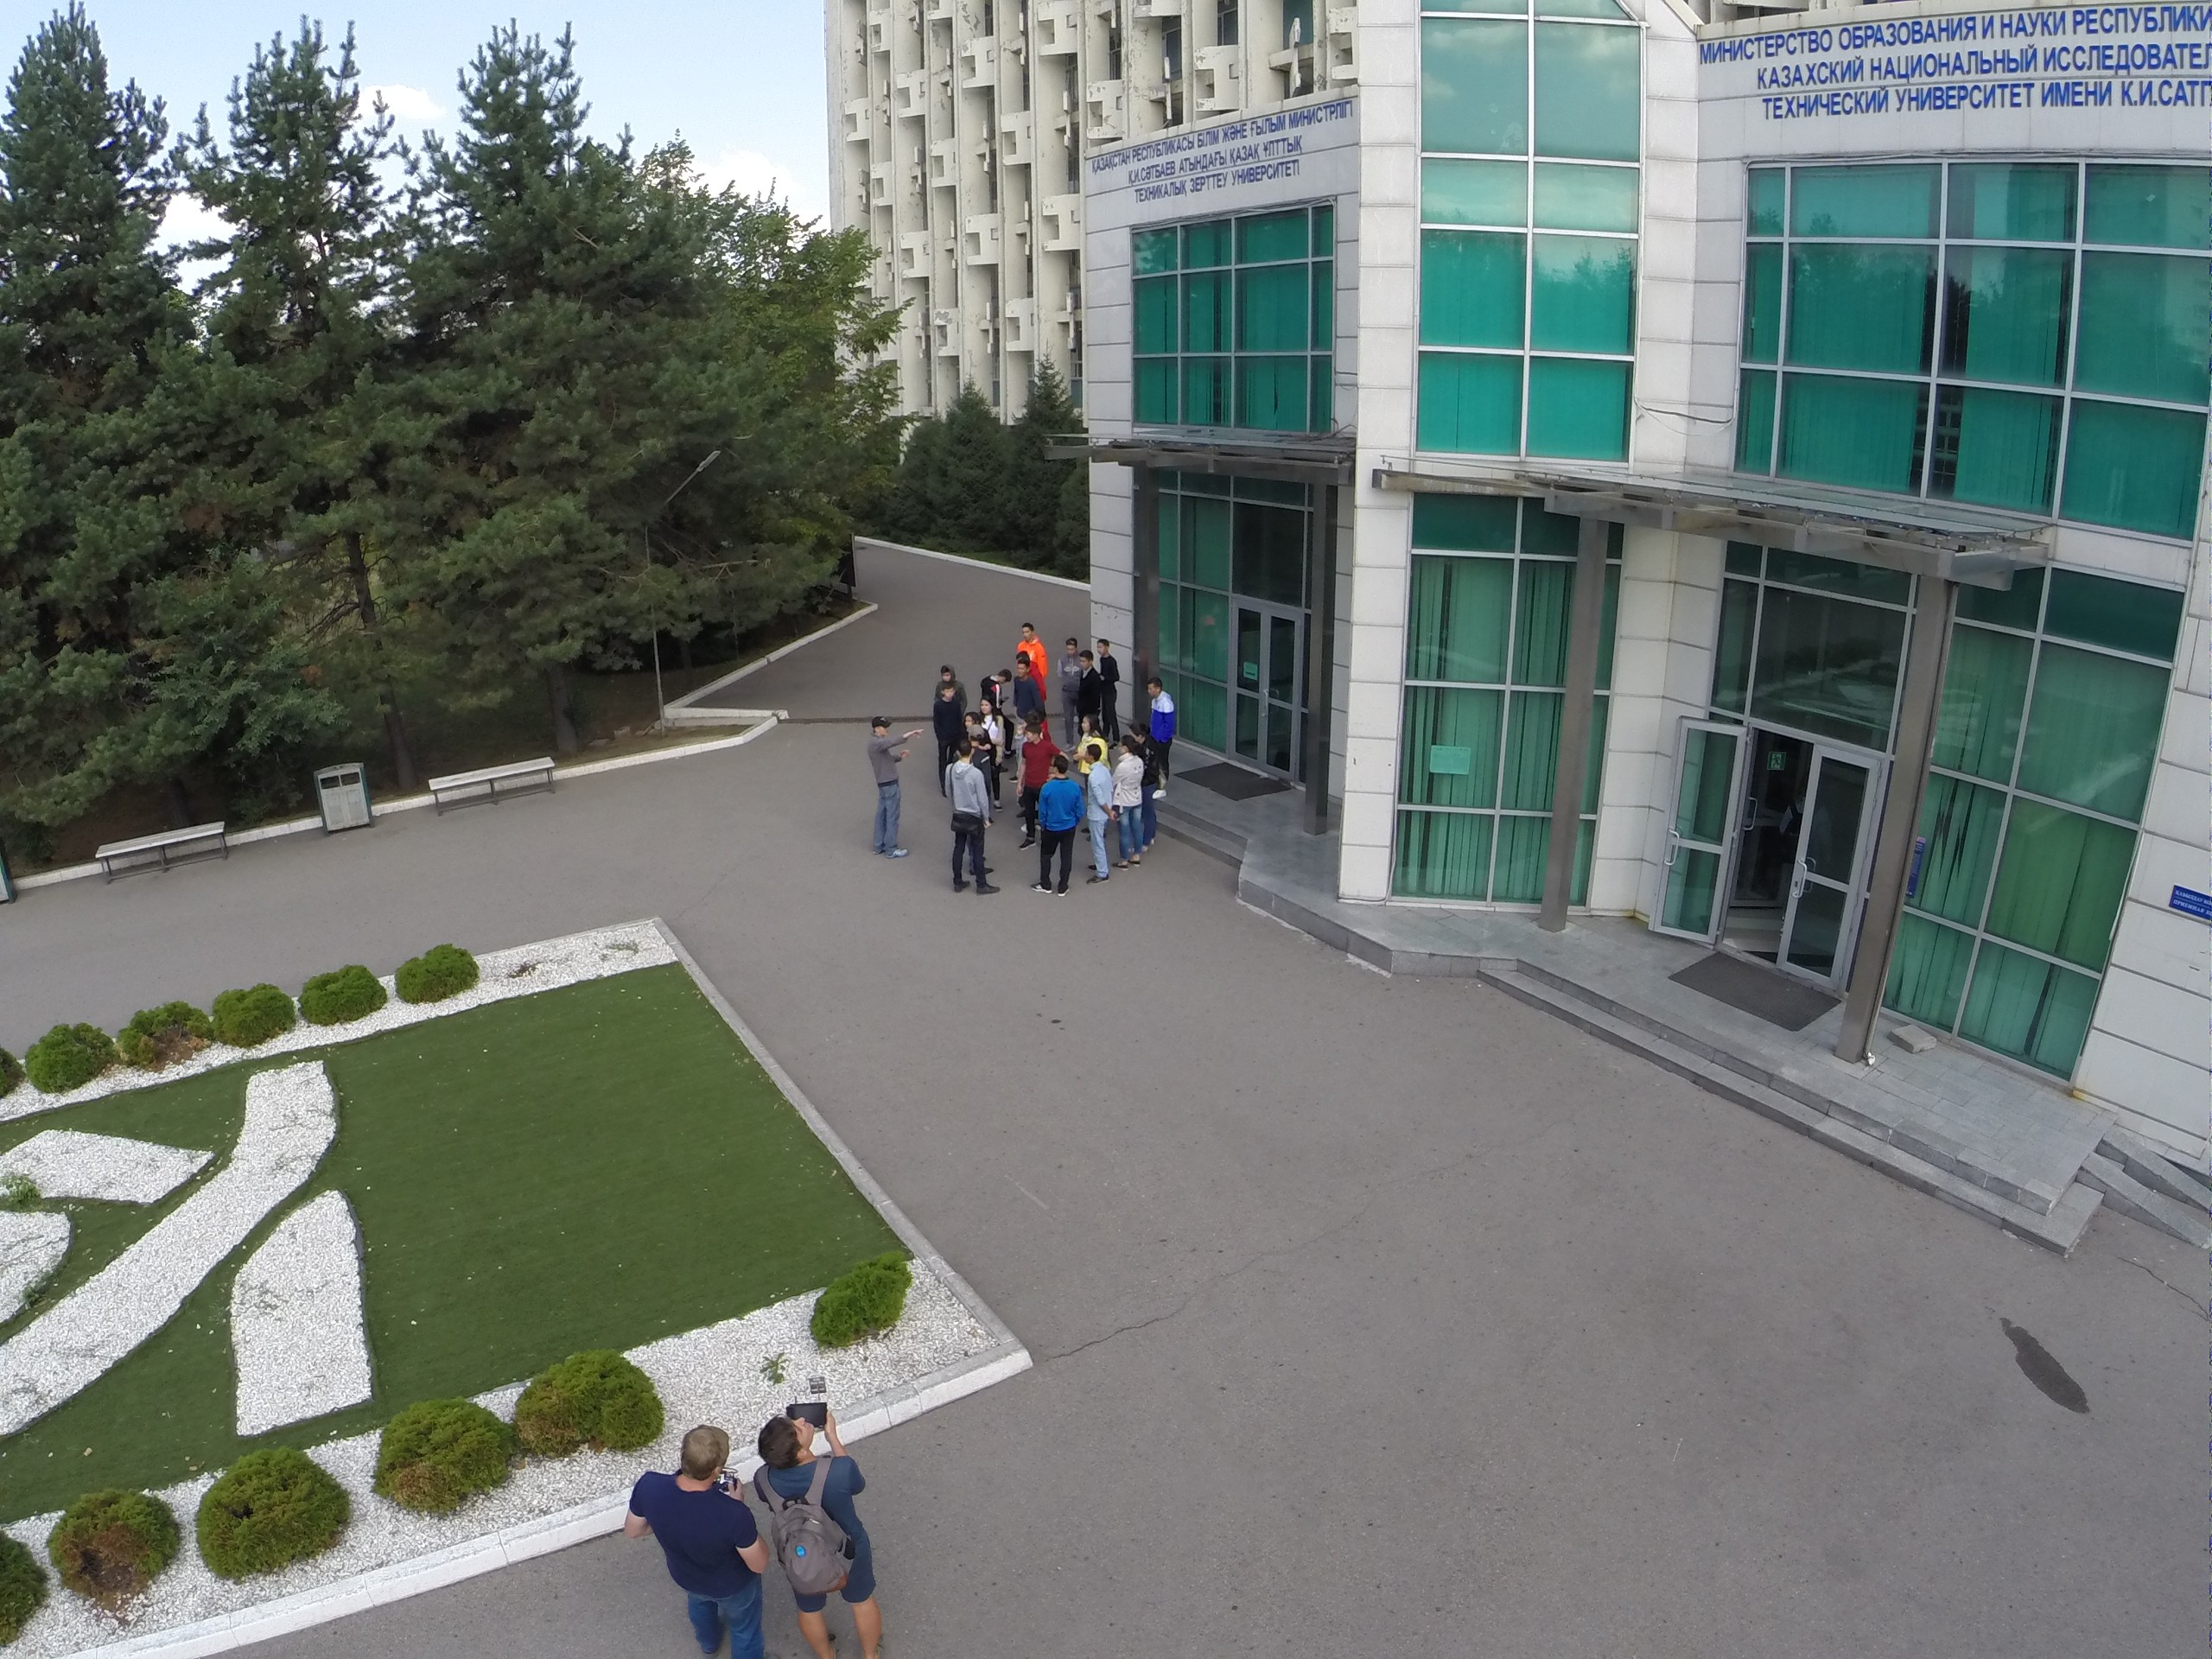person: (623, 1419, 766, 1659), (768, 1392, 893, 1659), (866, 715, 923, 858), (947, 742, 997, 898), (1036, 749, 1077, 898), (1110, 737, 1144, 870), (1081, 742, 1110, 890), (1017, 721, 1046, 854), (1094, 632, 1124, 741), (1143, 678, 1179, 758), (1137, 723, 1159, 846), (1060, 635, 1078, 747), (1075, 645, 1097, 723), (937, 682, 960, 742), (1020, 622, 1047, 662), (940, 661, 958, 683)
